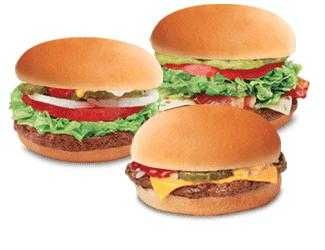hamburger: (123, 103, 289, 217), (9, 37, 161, 161), (147, 10, 310, 121)
